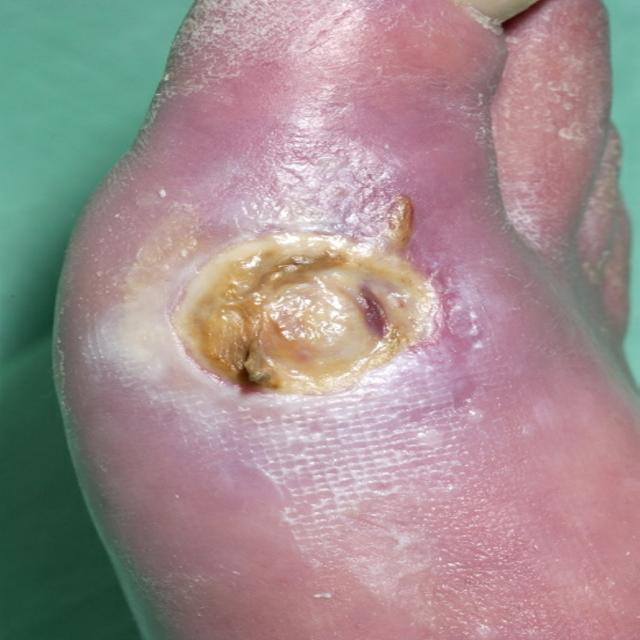wound: (168, 194, 442, 397)
